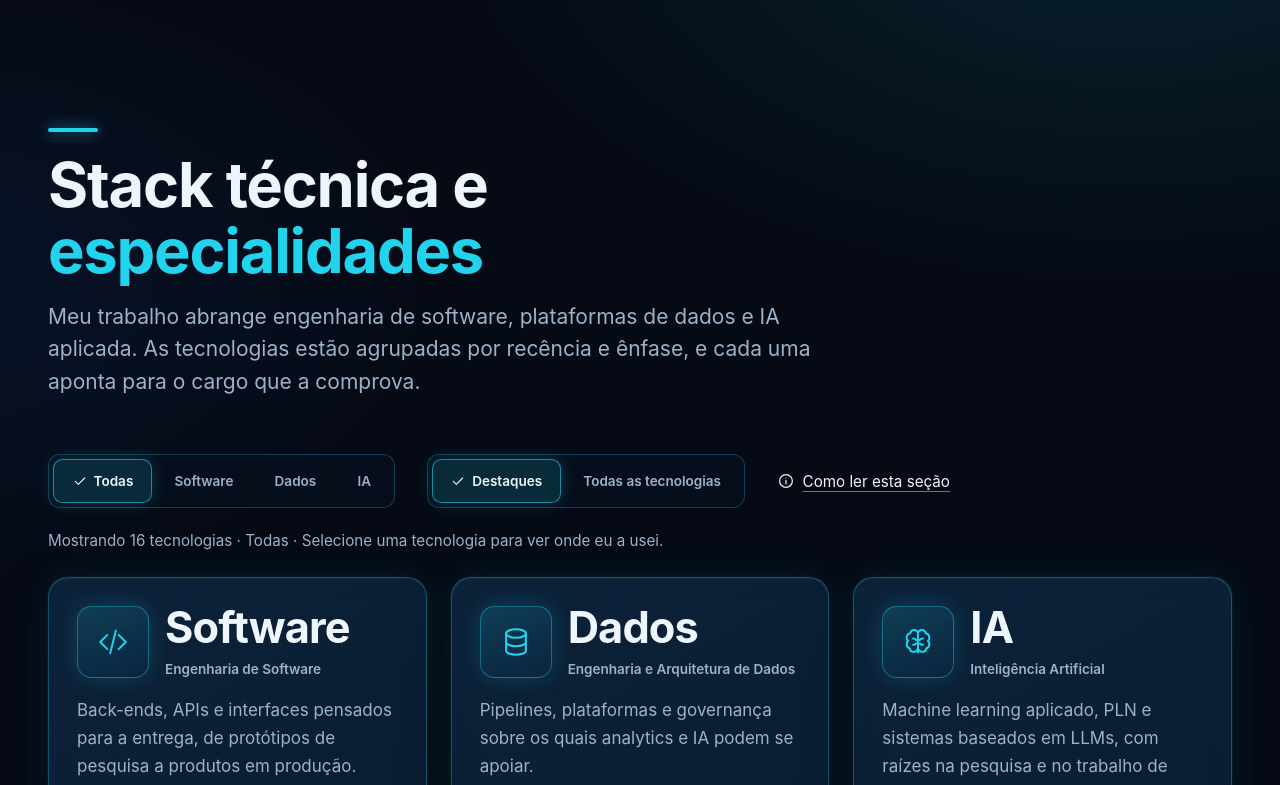
Scenario: Scenario 4: the help explains the non-quantitative rubric › has the same help in Portuguese
The width and height of the screenshot is (1280, 785).
Click the button "Como ler esta seção".
click(863, 481)  # box [776, 459, 950, 503]
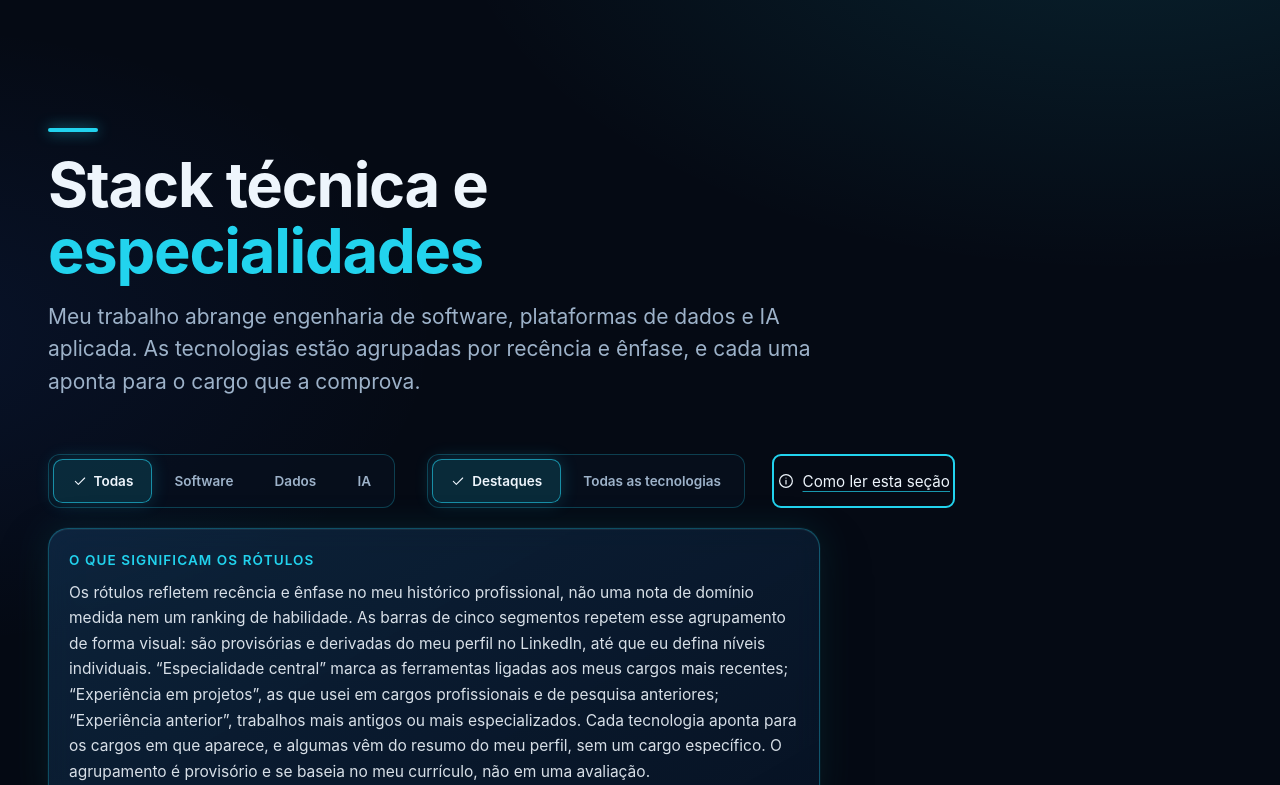
Now the text "não uma nota de domínio medida nem um ranking de habilidade" is shown, box [69, 583, 797, 781]
